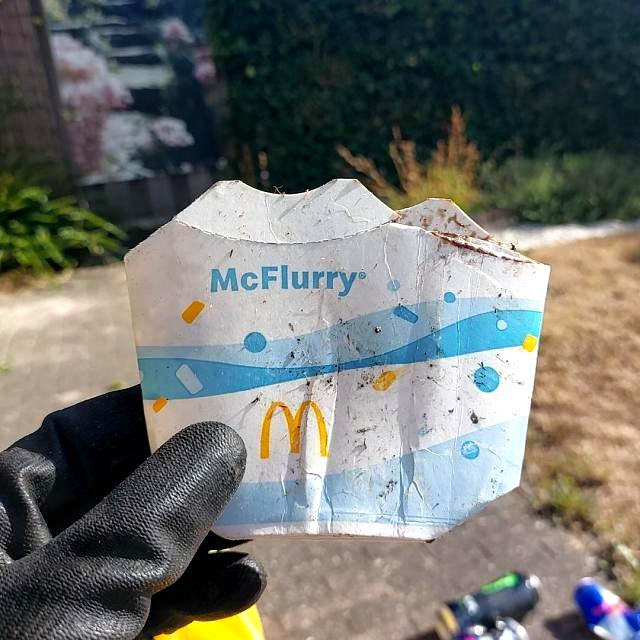Paper: (116, 174, 552, 548)
